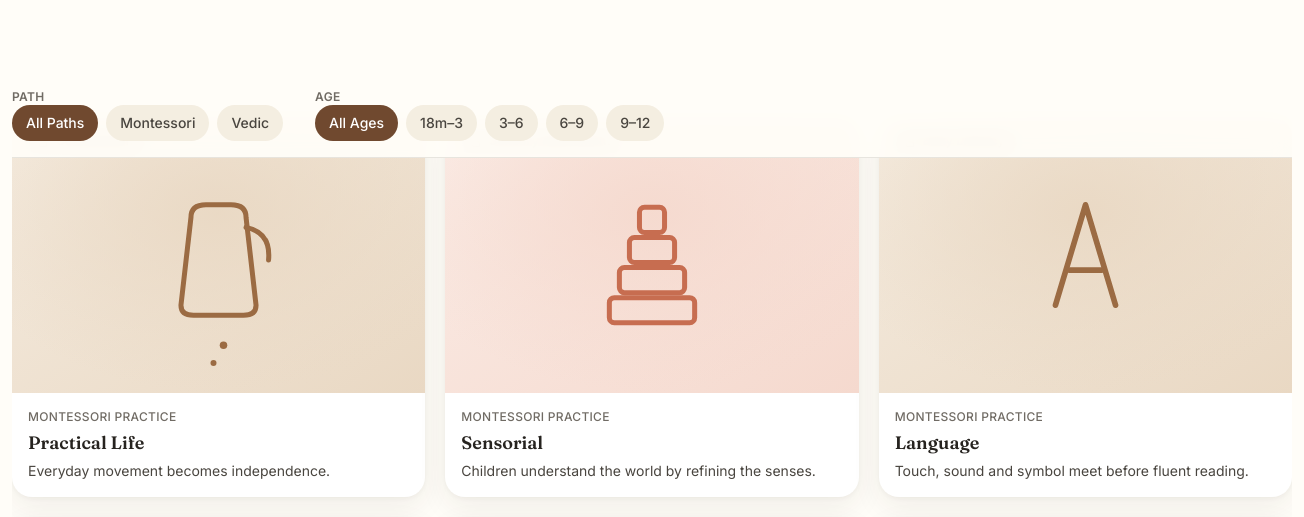
CurriculumExplorer › filters to a single path when a path filter is pressed
Click the button "Vedic".
click(250, 123)  # box [217,105,283,141]
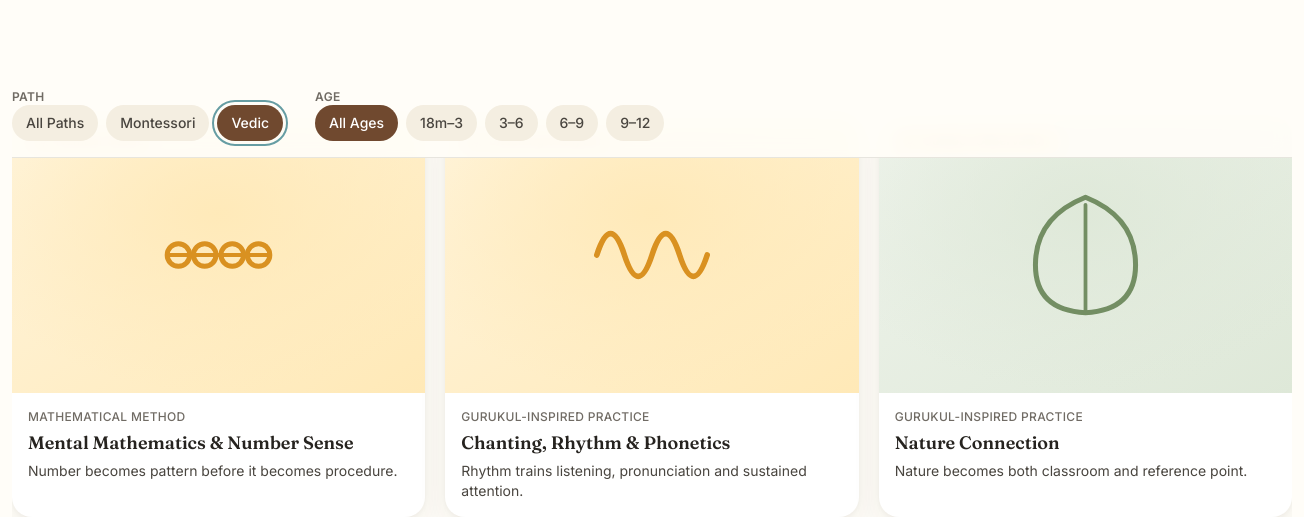
Check: the heading "Nature Connection" is shown, box [895,431,1060,454]
Check: the link "Practical Life" is gone
